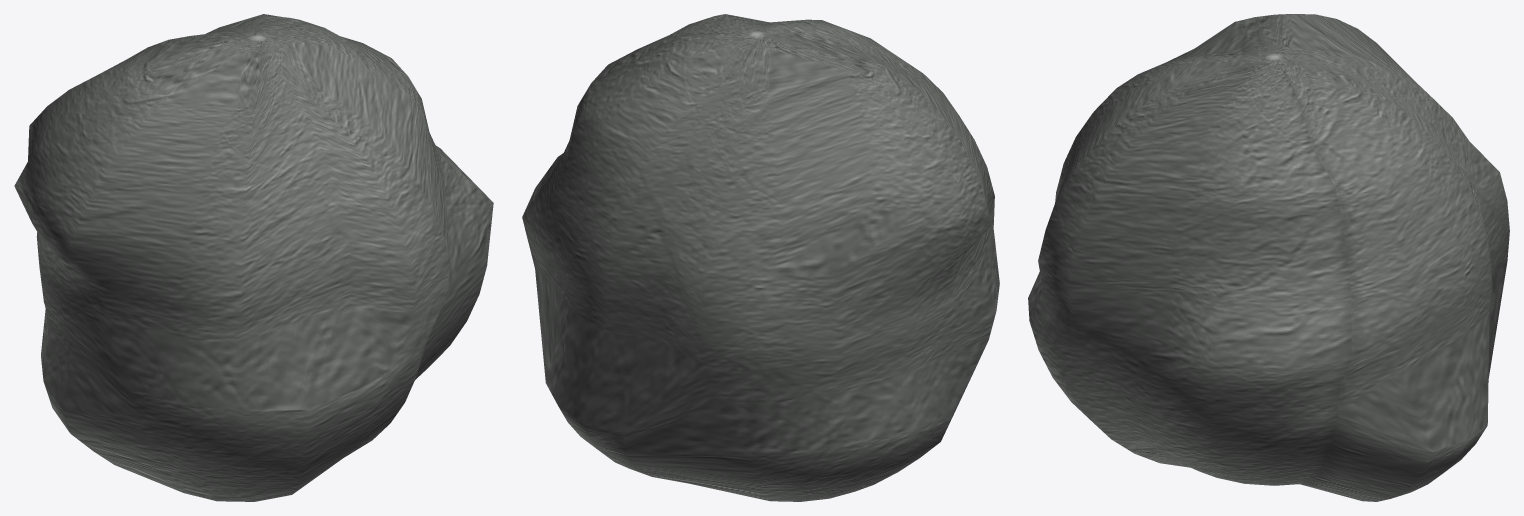
The model's file is Irreg_round_stone_2.fbx.
3 views of the same model, side by side, from view 1: azimuth 30°, elevation 25°; view 2: azimuth 150°, elevation 25°; view 3: azimuth 270°, elevation 25° (orthographic). The views are drawn at different scales.
Parts seen in each view (by area): view 1: pSphere1; view 2: pSphere1; view 3: pSphere1.
Boxes of the visible parts, <box> form: pSphere1: <box>14,14,493,501</box>; pSphere1: <box>522,14,999,501</box>; pSphere1: <box>1028,14,1509,501</box>.
Bounding box in the file's own units: 2.36 × 2.23 × 2.24.
1 material, 1 textured.
